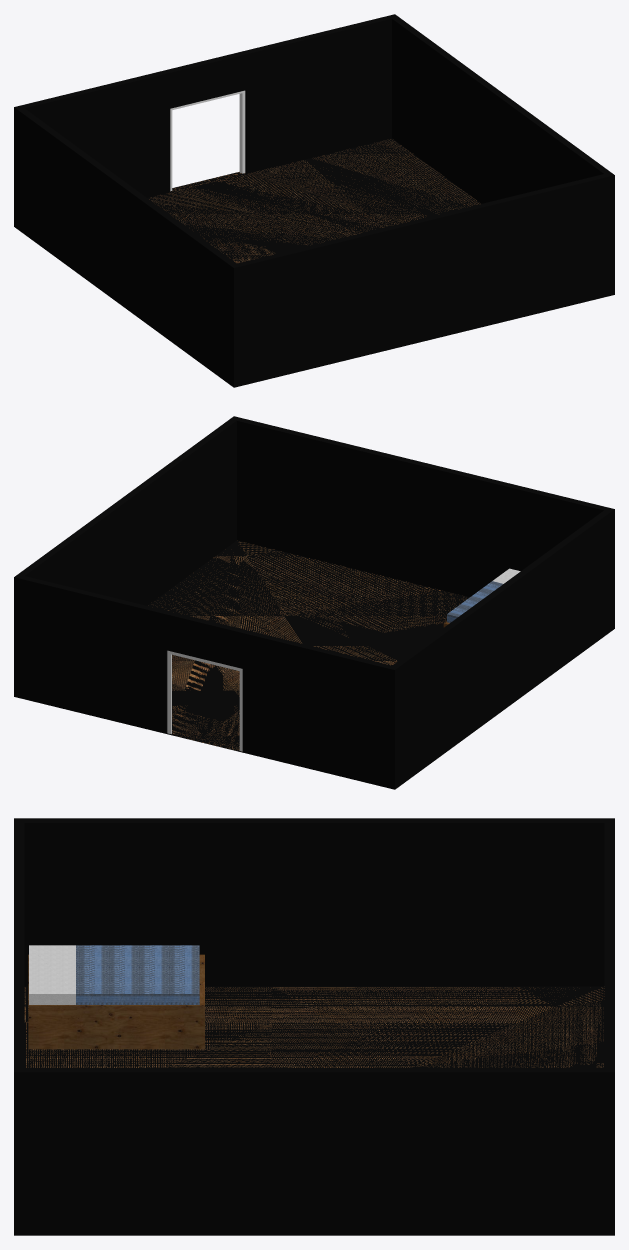
Rendered from bedroom.glb.
3 renders of one model, top to bottom at view 1: azimuth 30°, elevation 25°; view 2: azimuth 150°, elevation 25°; view 3: azimuth 270°, elevation 25°, orthographic. The views are drawn at different scales.
Parts seen in each view (by area): view 1: instance_0.001, instance_0.002, instance_0, DoorFrame; view 2: instance_0.001, instance_0, DoorFrame, instance_1.003; view 3: instance_0.001, instance_0.002, instance_0, instance_1.001, instance_1.003, instance_1.004.
Part boxes in pixels (bbox=[...]): instance_0.001: bbox=[14, 14, 614, 387]; instance_0.002: bbox=[234, 175, 614, 387]; instance_0: bbox=[147, 138, 481, 263]; DoorFrame: bbox=[170, 90, 245, 191]; instance_0.001: bbox=[14, 416, 614, 789]; instance_0: bbox=[147, 540, 469, 752]; DoorFrame: bbox=[167, 650, 242, 751]; instance_1.003: bbox=[447, 581, 502, 622]; instance_0.001: bbox=[14, 818, 614, 1072]; instance_0.002: bbox=[14, 1072, 614, 1235]; instance_0: bbox=[24, 986, 604, 1067]; instance_1.001: bbox=[28, 954, 204, 1049]; instance_1.003: bbox=[76, 945, 199, 1004]; instance_1.004: bbox=[29, 945, 75, 1004].
Bounding box in the file's own units: 10 × 3 × 10.
6 materials, 4 textured.
